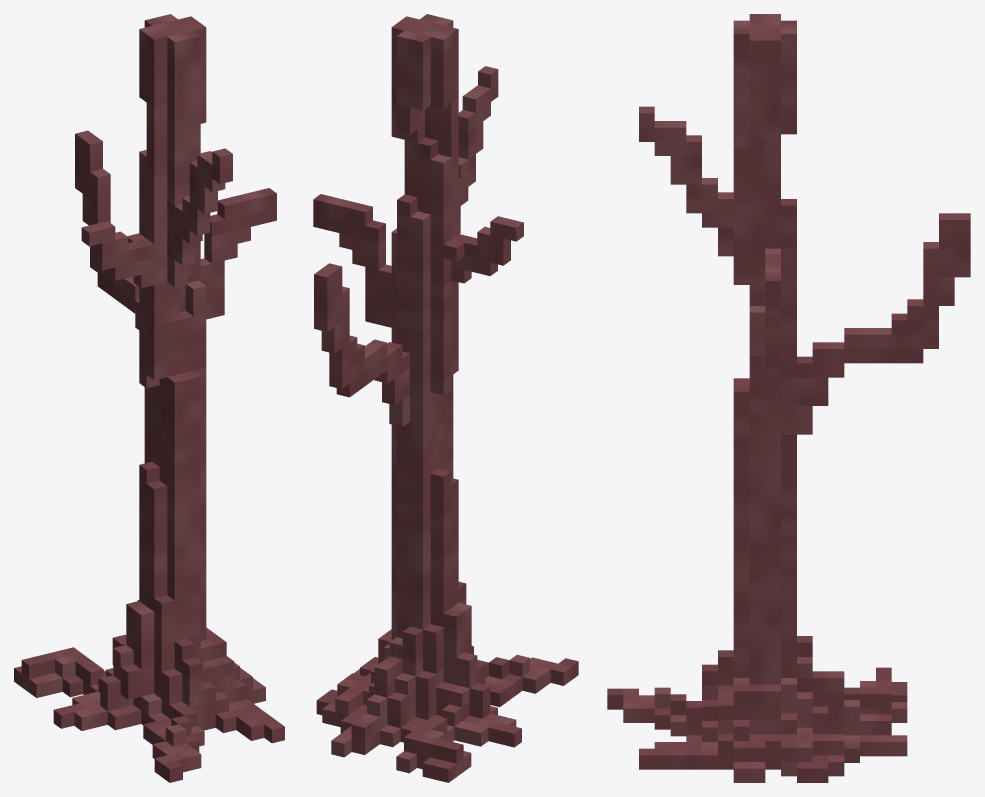
The model's file is Tree_dead_state_1.fbx.
3 views of the same model, side by side, from view 1: azimuth 30°, elevation 25°; view 2: azimuth 150°, elevation 25°; view 3: azimuth 270°, elevation 25° (orthographic). The views are drawn at different scales.
Parts seen in each view (by area): view 1: Tree_dead_state_1; view 2: Tree_dead_state_1; view 3: Tree_dead_state_1.
Part boxes in pixels (bbox=[...]): Tree_dead_state_1: bbox=[14, 14, 284, 782]; Tree_dead_state_1: bbox=[313, 14, 578, 782]; Tree_dead_state_1: bbox=[607, 14, 970, 782].
Bounding box in the file's own units: 16 × 50 × 23.
Materials: 1 (1 with a texture image).
